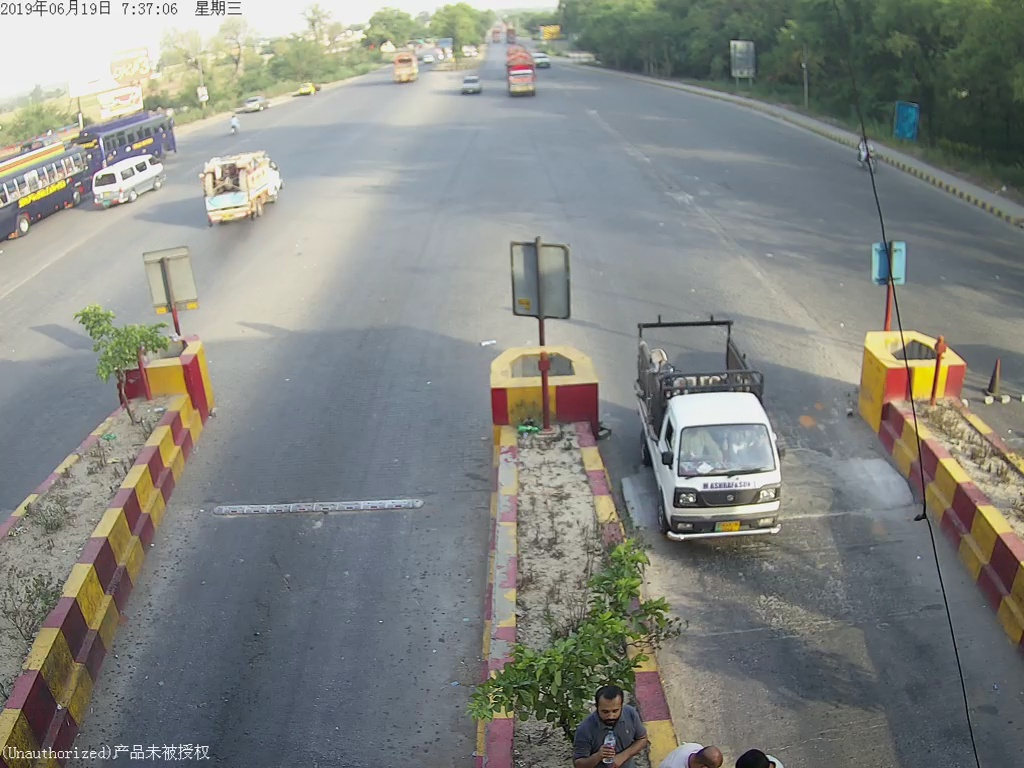Cat-4: (502, 40, 543, 99)
